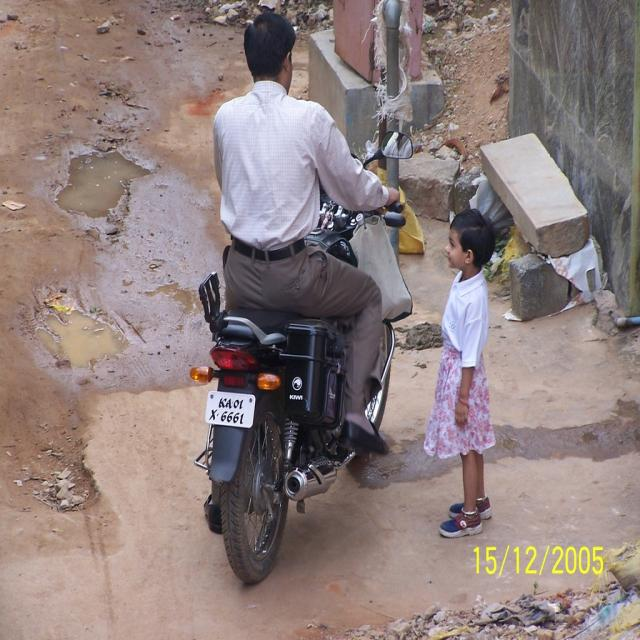Motorbikes: (187, 11, 415, 588)
